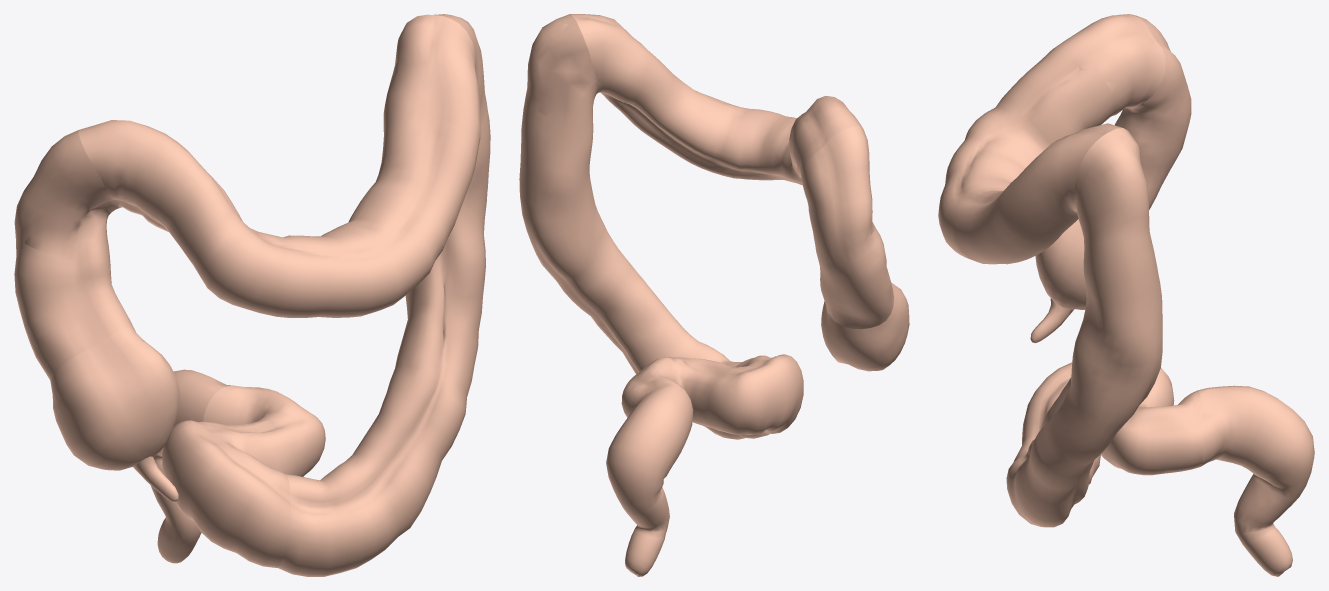
The model's file is SBU_F_Intestine_Large.glb.
The picture shows the model from 3 angles, left to right: view 1: azimuth 30°, elevation 25°; view 2: azimuth 150°, elevation 25°; view 3: azimuth 270°, elevation 25°; orthographic projection. The views are drawn at different scales.
Parts seen in each view (by area): view 1: VHF_transverse_colon, VHF_descending_colon, VHF_sigmoid_colon, VHF_ascending_colon, VHF_caecum, VHF_rectum, VHF_hepatic_flexture_of_colon, VHF_splenic_flexure_of_colon, VHF_vermiform_appendix; view 2: VHF_descending_colon, VHF_transverse_colon, VHF_ascending_colon, VHF_rectum, VHF_sigmoid_colon, VHF_caecum, VHF_splenic_flexure_of_colon, VHF_hepatic_flexture_of_colon; view 3: VHF_transverse_colon, VHF_descending_colon, VHF_rectum, VHF_sigmoid_colon, VHF_ascending_colon, VHF_caecum, VHF_vermiform_appendix, VHF_hepatic_flexture_of_colon, VHF_splenic_flexure_of_colon.
Boxes of the visible parts, x1,y1,x2,y2 form: VHF_transverse_colon: (78,14,480,317); VHF_descending_colon: (278,14,490,576); VHF_sigmoid_colon: (162,385,325,567); VHF_ascending_colon: (14,130,135,379); VHF_caecum: (50,327,179,470); VHF_rectum: (150,369,230,563); VHF_hepatic_flexture_of_colon: (24,164,160,261); VHF_splenic_flexure_of_colon: (406,14,484,125); VHF_vermiform_appendix: (133,456,178,502); VHF_descending_colon: (519,14,744,439); VHF_transverse_colon: (570,14,862,185); VHF_ascending_colon: (801,126,893,329); VHF_rectum: (606,380,693,576); VHF_sigmoid_colon: (622,354,803,438); VHF_caecum: (821,282,909,371); VHF_splenic_flexure_of_colon: (537,16,636,115); VHF_hepatic_flexture_of_colon: (789,112,875,234); VHF_transverse_colon: (938,14,1165,264); VHF_descending_colon: (1006,128,1162,527); VHF_rectum: (1197,385,1314,576); VHF_sigmoid_colon: (1022,362,1202,475); VHF_ascending_colon: (1115,14,1191,209); VHF_caecum: (1035,219,1086,309); VHF_vermiform_appendix: (1030,298,1074,343); VHF_hepatic_flexture_of_colon: (1079,30,1181,132); VHF_splenic_flexure_of_colon: (1026,129,1141,241).
Size of the model in its own units: 0.2433 by 0.2949 by 0.1934.
